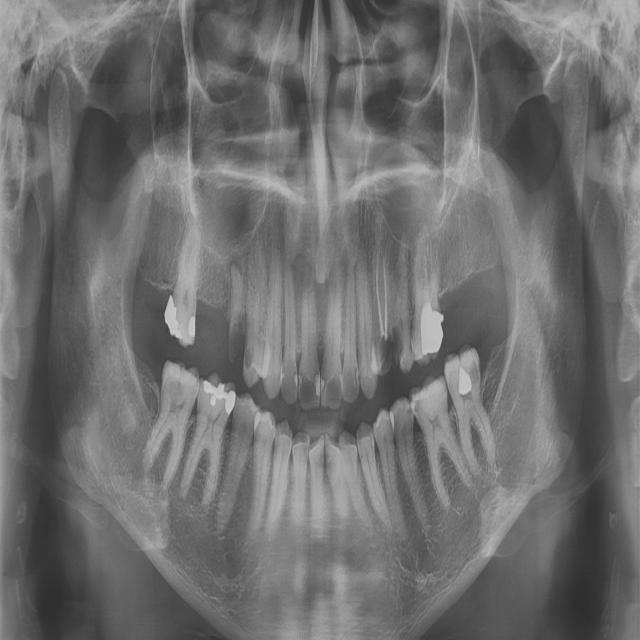Caries: (392, 325, 405, 364), (169, 372, 185, 399), (244, 344, 256, 374), (469, 356, 481, 383), (411, 394, 422, 414), (173, 279, 180, 309), (446, 376, 453, 395), (406, 401, 413, 419), (354, 363, 359, 388), (442, 378, 447, 398)
Filling: (203, 380, 237, 416), (421, 303, 444, 354), (164, 294, 182, 342), (459, 367, 472, 394), (187, 315, 194, 338), (314, 369, 320, 395), (338, 368, 343, 395), (320, 375, 325, 396), (293, 370, 298, 388), (281, 366, 285, 386)
Missing teeth: (439, 282, 479, 347), (194, 301, 229, 363)
Periapical lesion: (225, 244, 245, 279)
Root Canal Treatment: (215, 514, 232, 538)
Root Piece: (372, 210, 396, 376), (228, 261, 246, 359)
